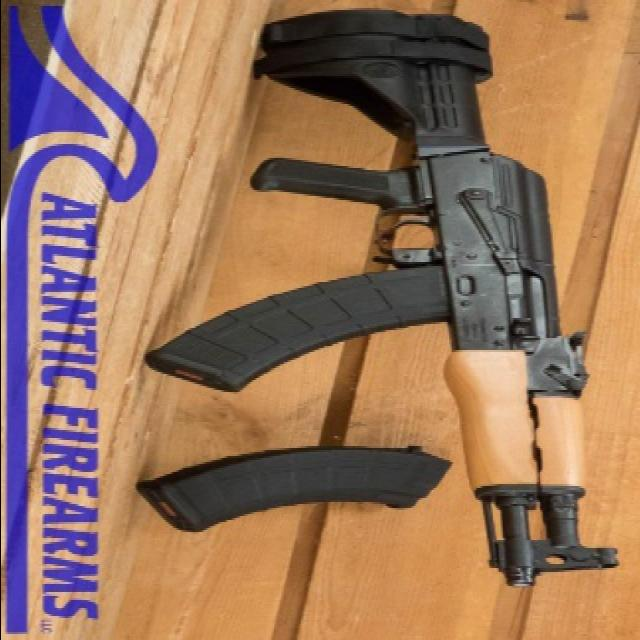rifle: (140, 3, 610, 621)
